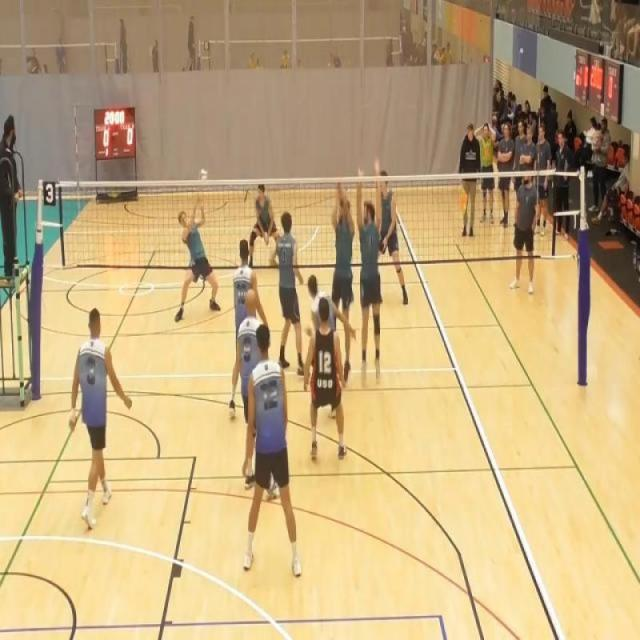volleyball: (197, 166, 210, 182)
